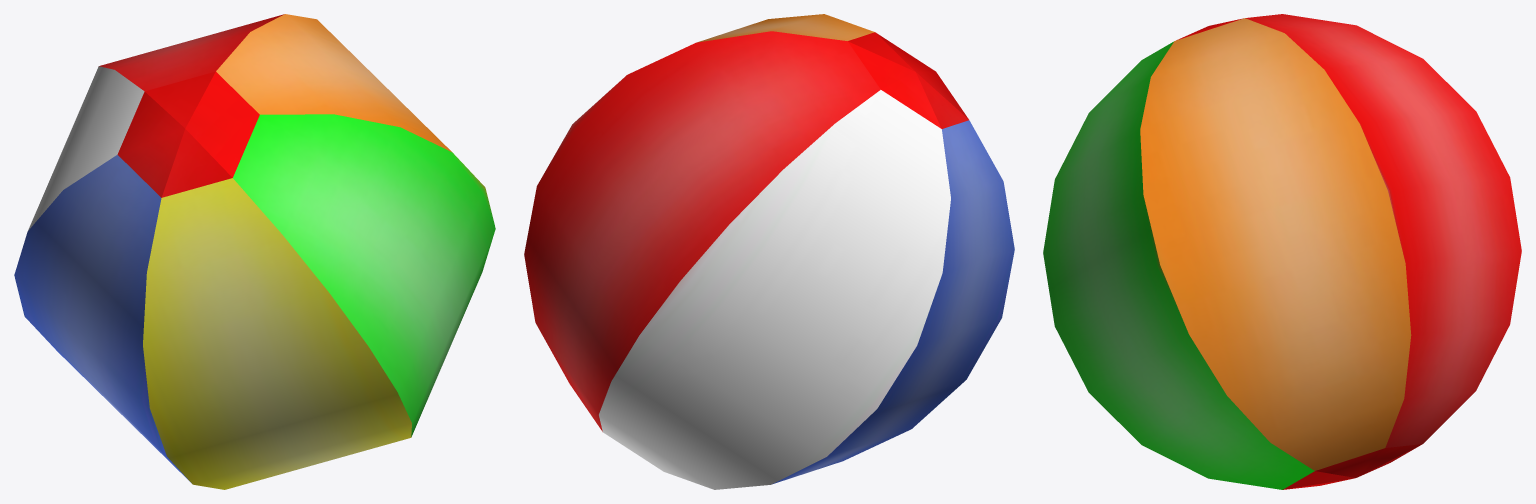
The model's file is ColladaBall.dae.
3 views of the same model, side by side, from view 1: azimuth 30°, elevation 25°; view 2: azimuth 150°, elevation 25°; view 3: azimuth 270°, elevation 25° (orthographic). The views are drawn at different scales.
Parts seen in each view (by area): view 1: Ball; view 2: Ball; view 3: Ball.
Part boxes in pixels (<box>): Ball: <box>14,14,495,489</box>; Ball: <box>524,14,1014,489</box>; Ball: <box>1043,14,1521,489</box>.
Size of the model in its own units: 81.79 by 86.29 by 86.23.
